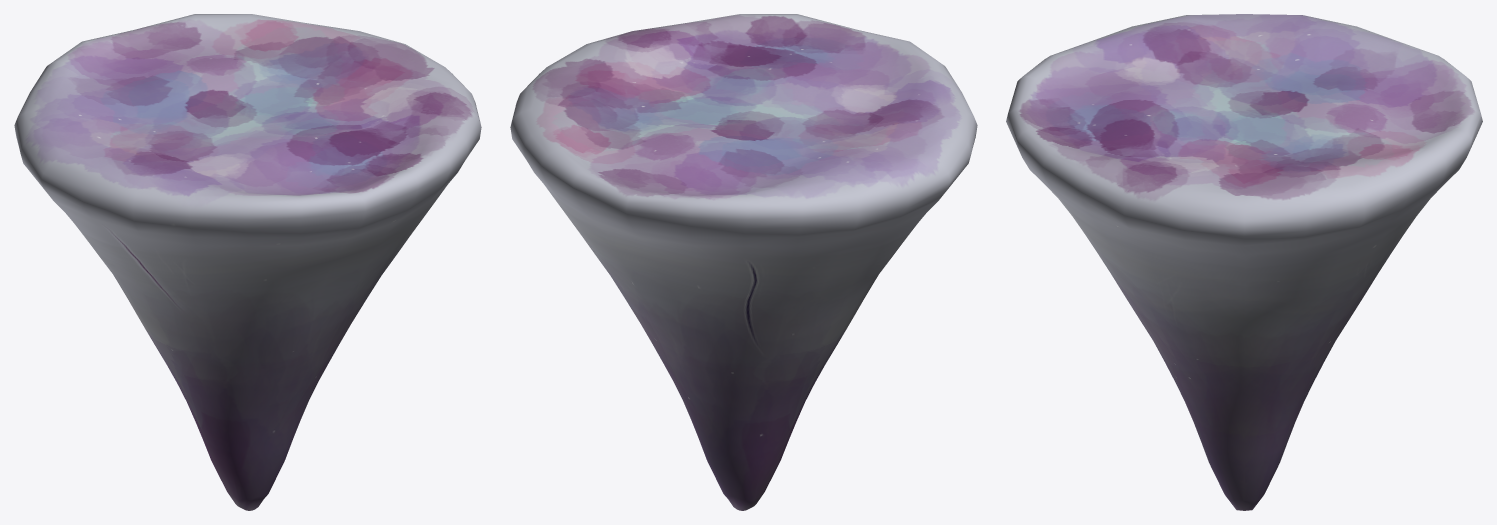
The model's file is FishStone_Model_Zone1.fbx.
3 renders of one model, left to right at view 1: azimuth 30°, elevation 25°; view 2: azimuth 150°, elevation 25°; view 3: azimuth 270°, elevation 25°, orthographic.
Parts seen in each view (by area): view 1: Group001; view 2: Group001; view 3: Group001.
Boxes of the visible parts, box(x1,y1,x2,y2) form: Group001: box(14, 14, 481, 510); Group001: box(510, 14, 977, 510); Group001: box(1006, 14, 1482, 510).
Bounding box in the file's own units: 1245 × 1162 × 1229.
